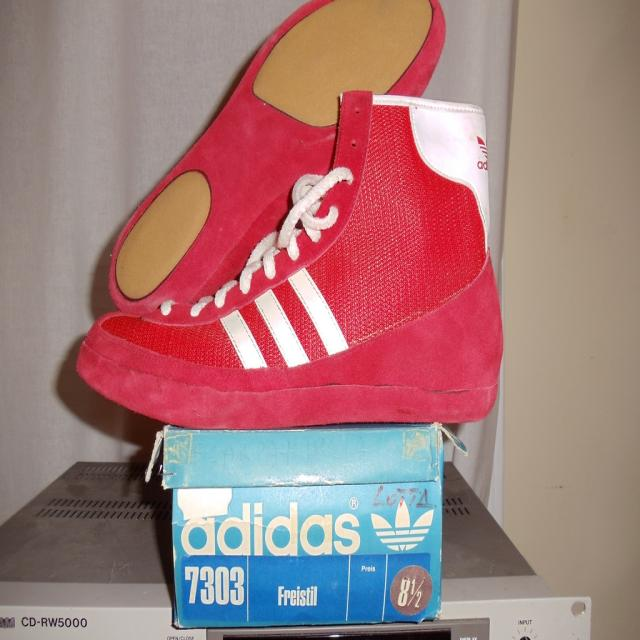adidas: (365, 490, 439, 559)
